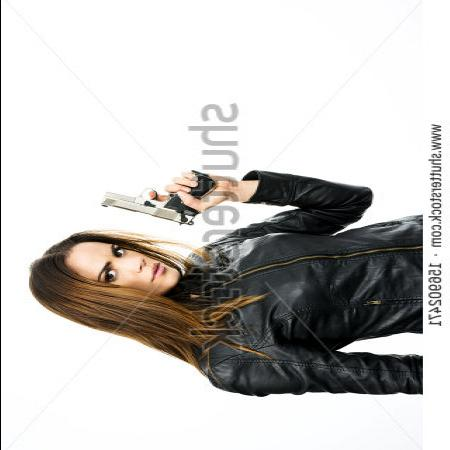Pistol: (96, 175, 212, 229)
